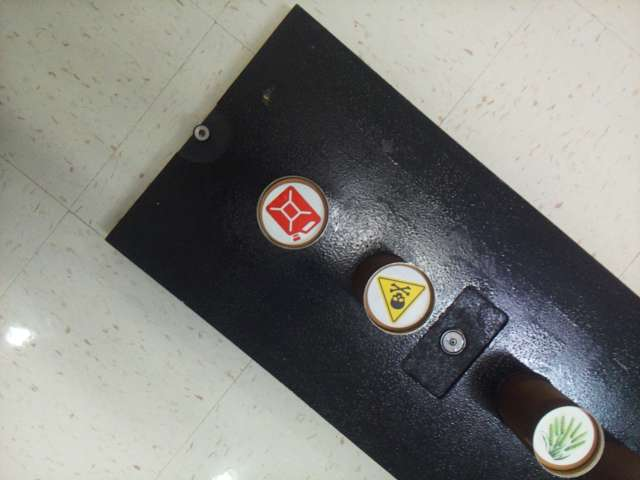gasoline: (263, 184, 323, 244)
toxic_fluid: (368, 268, 431, 329)
wheat_barrel: (535, 408, 595, 465)
